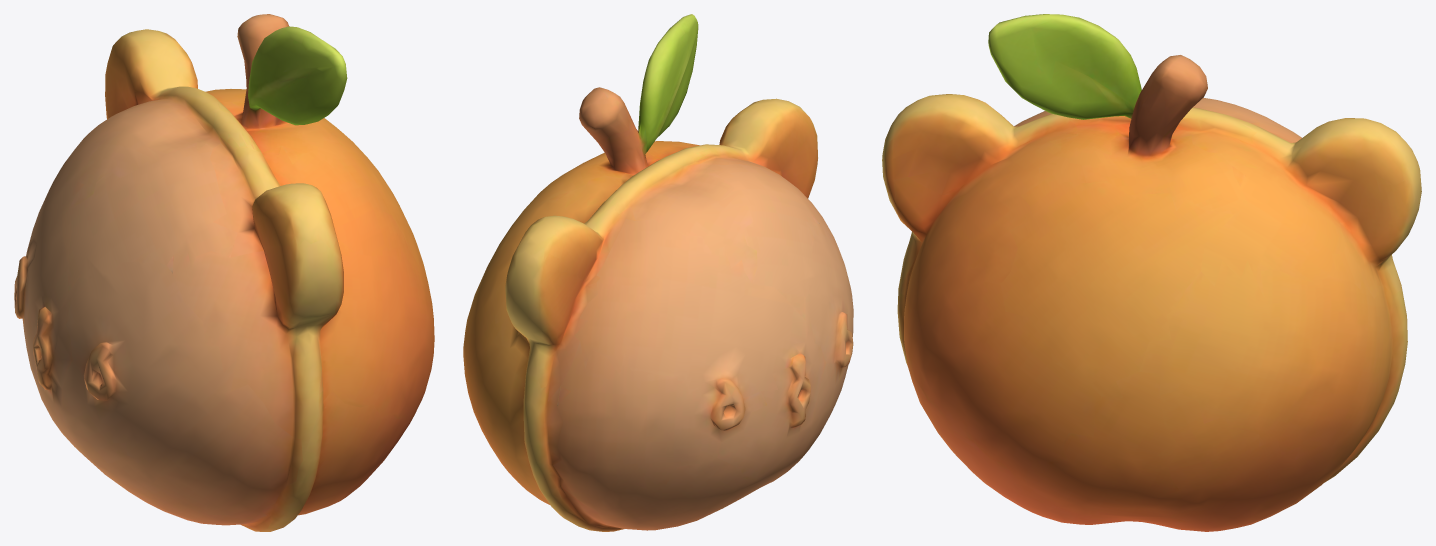
The model's file is food_orange.glb.
3 renders of one model, left to right at view 1: azimuth 30°, elevation 25°; view 2: azimuth 150°, elevation 25°; view 3: azimuth 270°, elevation 25°, orthographic. The views are drawn at different scales.
Parts seen in each view (by area): view 1: tripo_node_03d865d3-af8c-4fd3-8ba5-02610fac95b3; view 2: tripo_node_03d865d3-af8c-4fd3-8ba5-02610fac95b3; view 3: tripo_node_03d865d3-af8c-4fd3-8ba5-02610fac95b3.
Boxes of the visible parts, x1,y1,x2,y2 form: tripo_node_03d865d3-af8c-4fd3-8ba5-02610fac95b3: (14,14,434,531); tripo_node_03d865d3-af8c-4fd3-8ba5-02610fac95b3: (463,14,853,531); tripo_node_03d865d3-af8c-4fd3-8ba5-02610fac95b3: (882,14,1421,531).
Size of the model in its own units: 0.7486 by 1 by 0.9564.
1 material, 1 textured.
